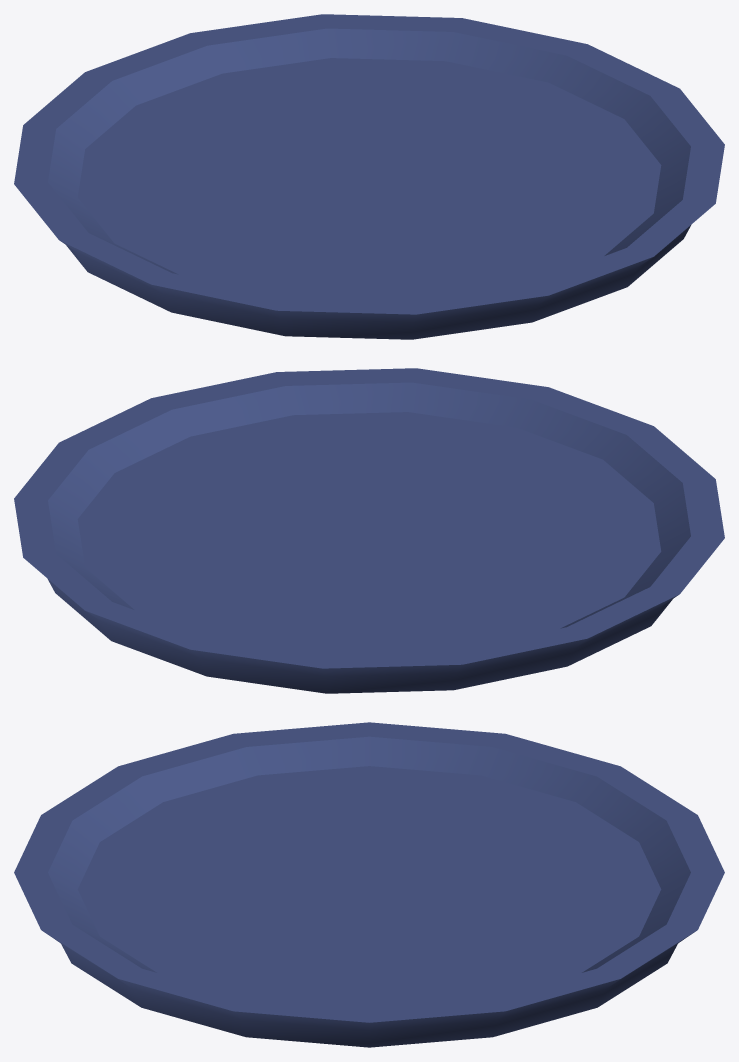
File: plate.fbx
The picture shows the model from 3 angles, top to bottom: view 1: azimuth 30°, elevation 25°; view 2: azimuth 150°, elevation 25°; view 3: azimuth 270°, elevation 25°; orthographic projection.
Visible parts, largest first — view 1: plate; view 2: plate; view 3: plate.
Part boxes in pixels (<box>): plate: <box>14,14,724,339</box>; plate: <box>14,368,724,693</box>; plate: <box>14,722,724,1047</box>.
Bounding box in the file's own units: 0.3978 × 0.0239 × 0.3978.
